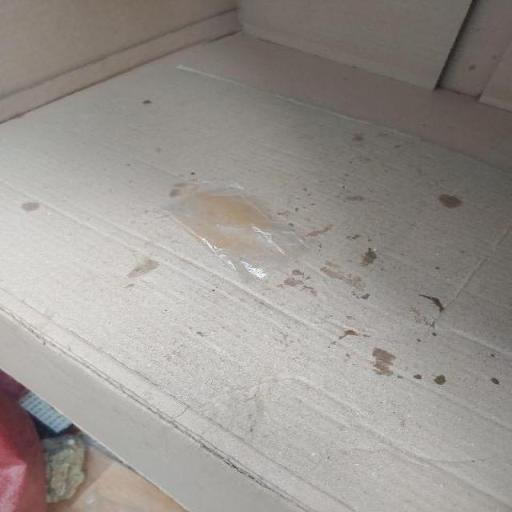plastic-bag: (162, 183, 312, 288)
